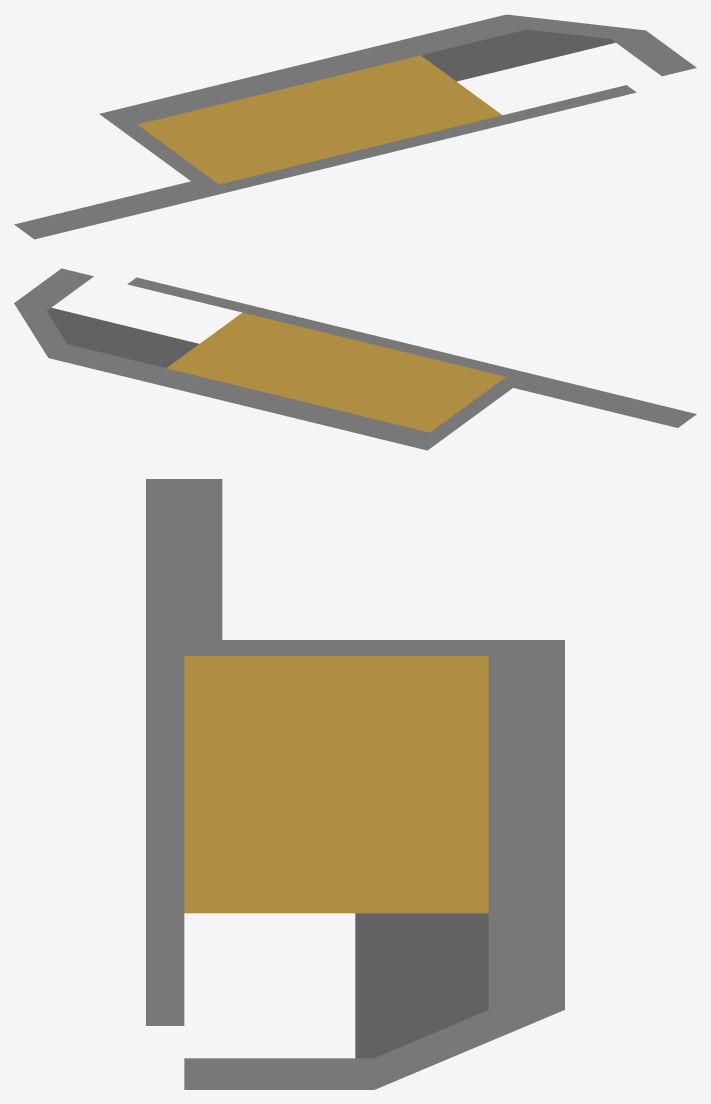
File: roads_bus.glb
The picture shows the model from 3 angles, top to bottom: view 1: azimuth 30°, elevation 25°; view 2: azimuth 150°, elevation 25°; view 3: azimuth 270°, elevation 25°; orthographic projection. The views are drawn at different scales.
Visible parts, largest first — view 1: Plane; view 2: Plane; view 3: Plane.
Part boxes in pixels (x1,y1,x2,y2): Plane: [14, 14, 696, 239]; Plane: [14, 268, 696, 450]; Plane: [146, 479, 564, 1089].
Size of what is drawn, in the model's own units: 152 by 0 by 44.
